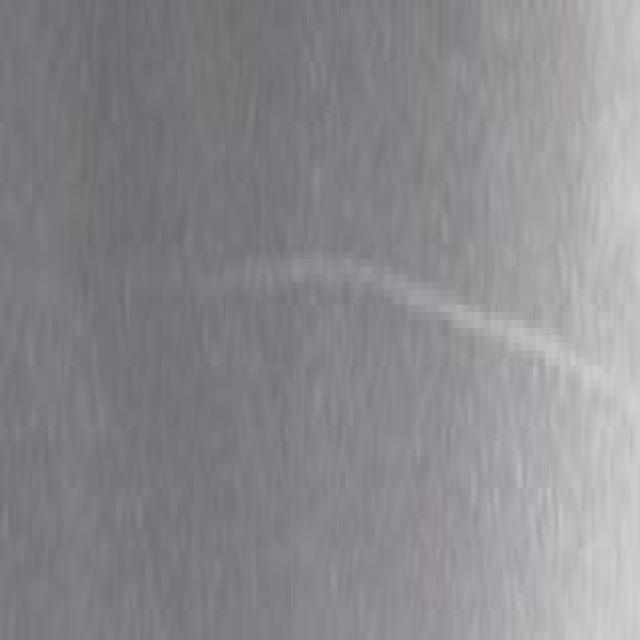scratch: (226, 221, 640, 419)
